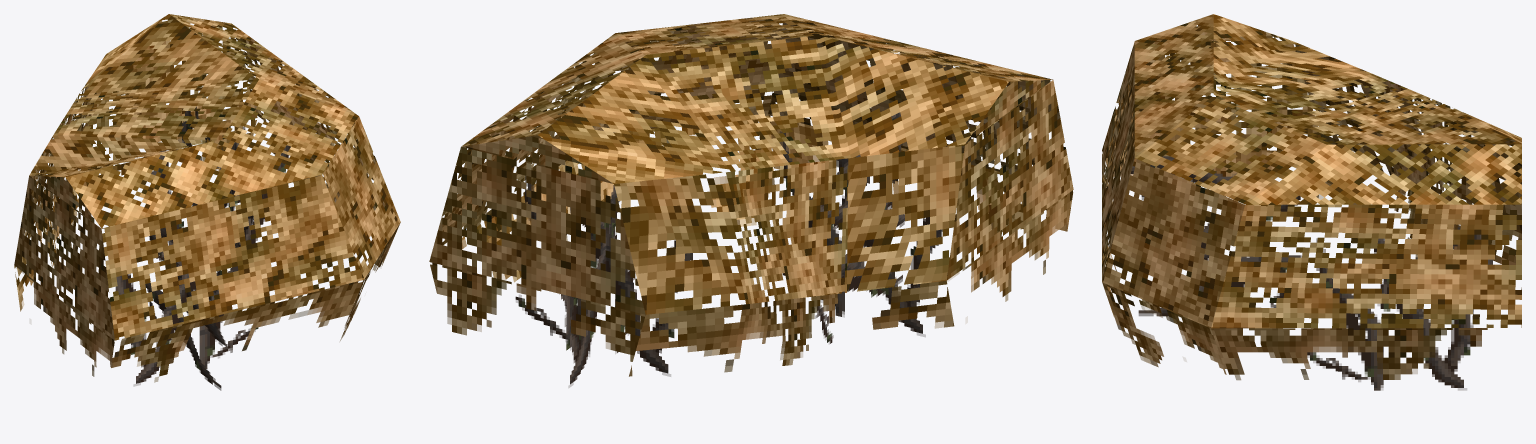
File: bush_round_corner_filled_root_autumn.glb
3 renders of one model, left to right at view 1: azimuth 30°, elevation 25°; view 2: azimuth 150°, elevation 25°; view 3: azimuth 270°, elevation 25°, orthographic. The views are drawn at different scales.
Visible parts, largest first — view 1: bush_round_corner_filled_root_autumn; view 2: bush_round_corner_filled_root_autumn; view 3: bush_round_corner_filled_root_autumn.
Boxes of the visible parts, x1,y1,x2,y2 form: bush_round_corner_filled_root_autumn: (14, 14, 400, 390); bush_round_corner_filled_root_autumn: (429, 14, 1073, 387); bush_round_corner_filled_root_autumn: (1102, 14, 1521, 390).
Bounding box in the file's own units: 1.36 × 0.8765 × 1.35.
Materials: 2 (2 with a texture image).
